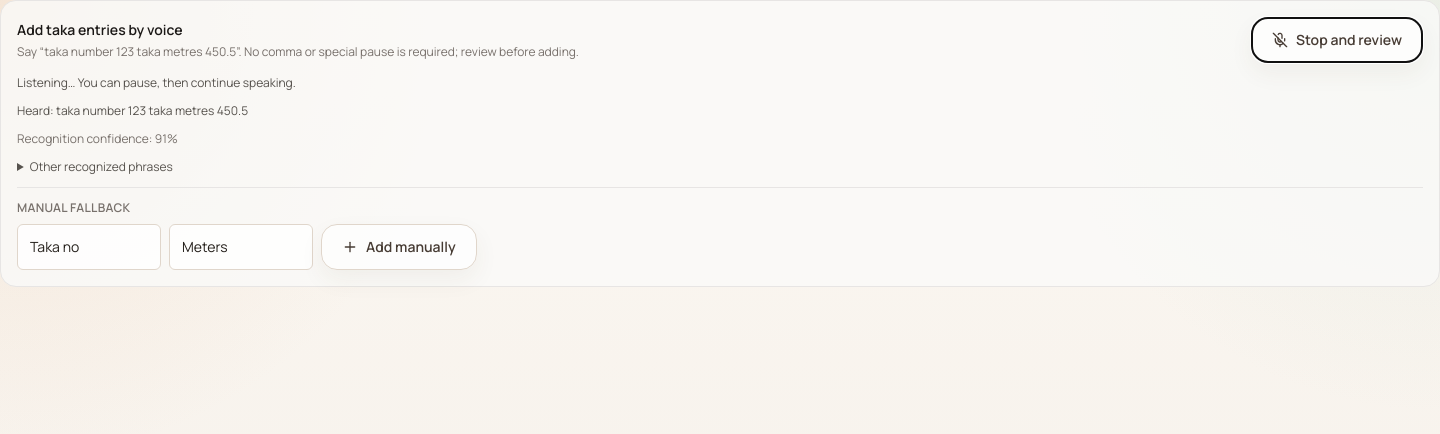
Test: TakaVoiceInput › keeps recognition results in preview until the user confirms them
Earlier steps of the test are not shown.
Later steps or results of the test are not shown.
Click the button "Stop and review" at (1337, 40), box [1251, 17, 1423, 63]
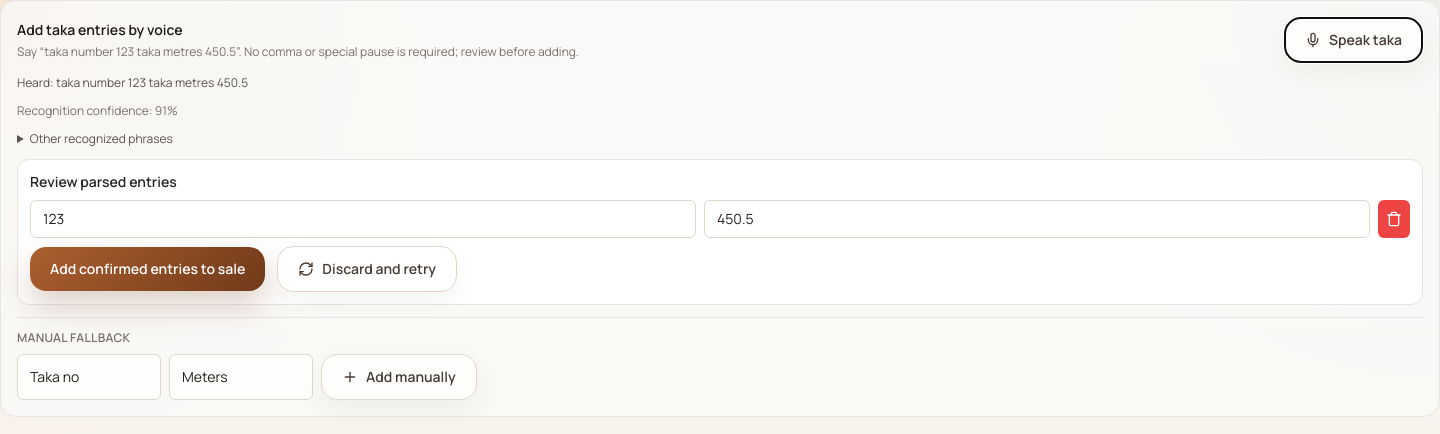
Expected: the text "Recognition confidence: 91%" is shown, [17, 102, 178, 119]
Expected: the text "Review parsed entries" is shown, [30, 172, 177, 191]
Expected: the 1st number field showing "123" is shown, [30, 200, 696, 238]
